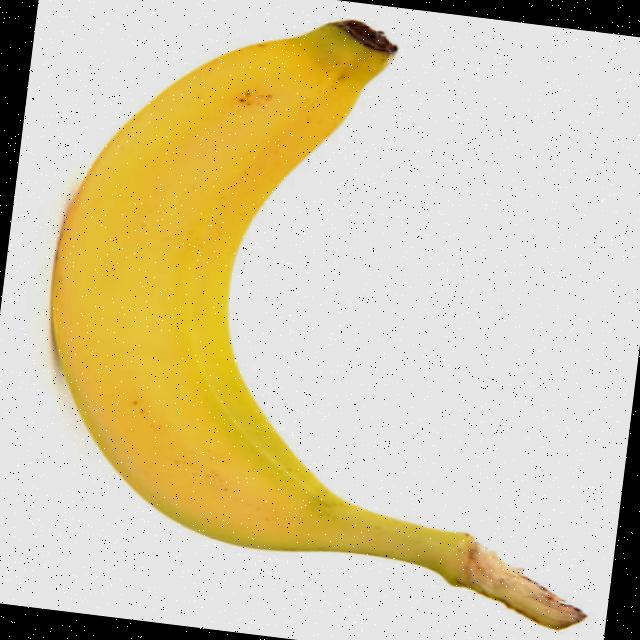Ripe: (16, 0, 534, 581)
